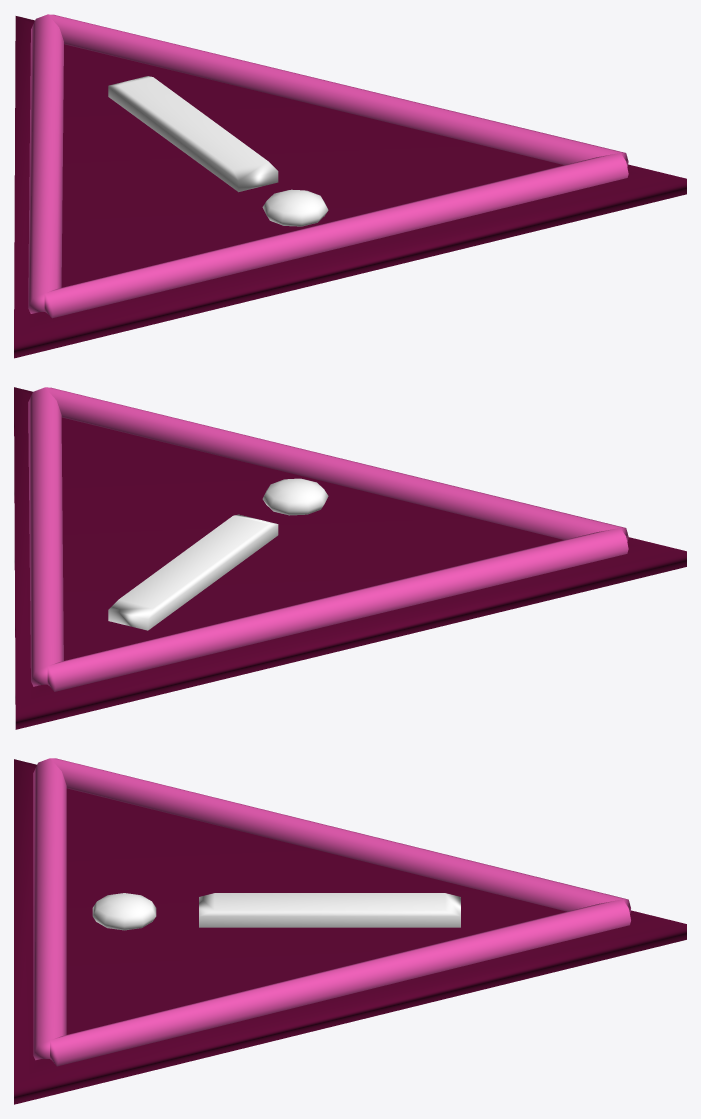
File: Warning.glb
3 renders of one model, top to bottom at view 1: azimuth 30°, elevation 25°; view 2: azimuth 150°, elevation 25°; view 3: azimuth 270°, elevation 25°, orthographic.
Visible parts, largest first — view 1: Body, Border, Symbol; view 2: Body, Border, Symbol; view 3: Body, Border, Symbol.
Part boxes in pixels (x1=…): Body: x1=14, y1=16, x2=686, y2=358; Border: x1=28, y1=14, x2=628, y2=318; Symbol: x1=108, y1=76, x2=328, y2=226; Body: x1=14, y1=387, x2=686, y2=729; Border: x1=28, y1=387, x2=628, y2=691; Symbol: x1=108, y1=478, x2=328, y2=630; Body: x1=14, y1=759, x2=686, y2=1104; Border: x1=33, y1=758, x2=630, y2=1066; Symbol: x1=92, y1=893, x2=460, y2=930.
Bounding box in the file's own units: 0.8512 × 0.0574 × 0.7336.
1 material, 1 textured.
